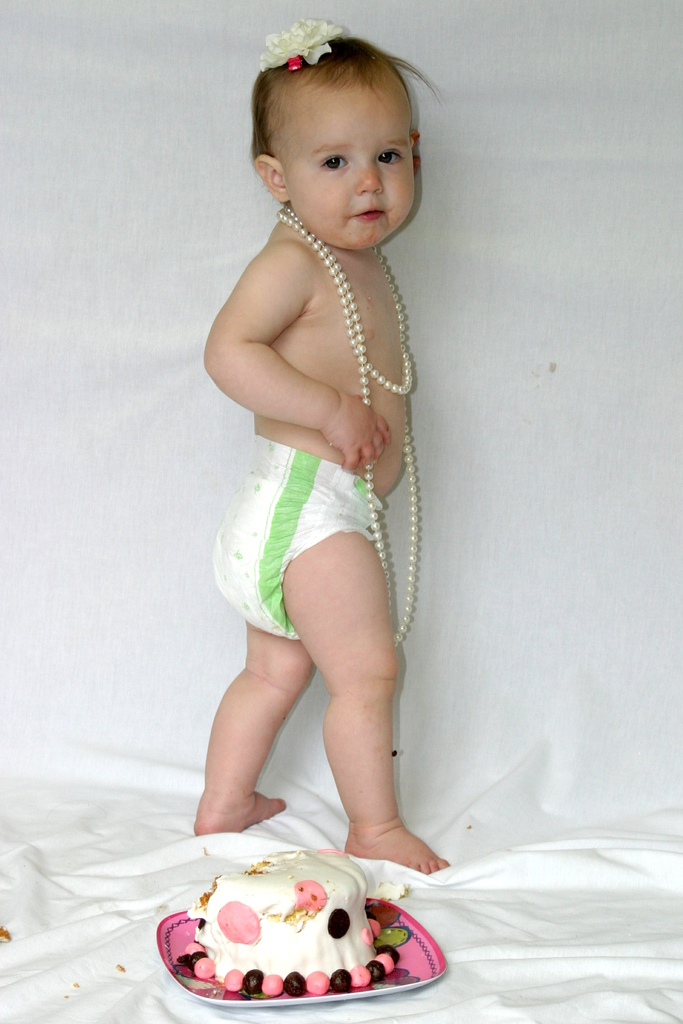cake: (197, 849, 372, 979)
